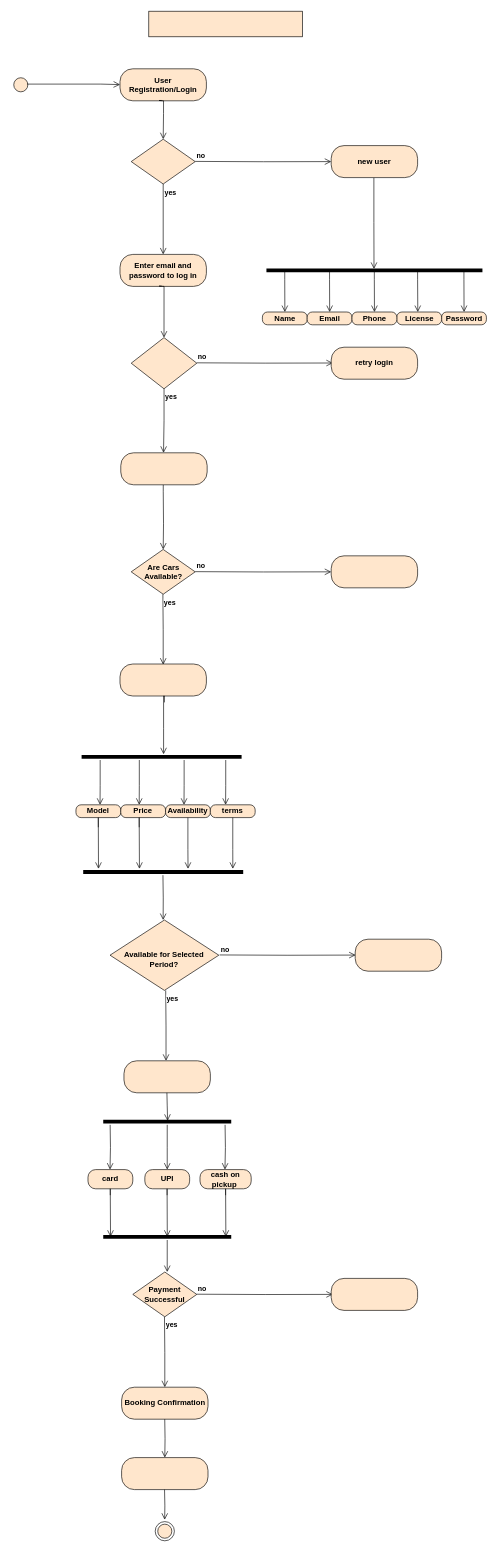
Image size: 498x1552. Some labels were removed from this diagram. Each missing label, with the box of its shape:
allow user to select a different car: (355, 939, 442, 971)
Car Rental System: (148, 11, 302, 37)
If existing user: (131, 139, 195, 184)
Login Successful?: (131, 337, 197, 389)
No cars available: (331, 555, 418, 588)
Proceed to payment.: (123, 1060, 210, 1093)
prompt user to retry.: (331, 1278, 418, 1310)
Search for Available Cars: (120, 452, 207, 485)
Select a Car: (119, 663, 206, 696)
User receives confirmation via email/SMS: (121, 1457, 208, 1490)
